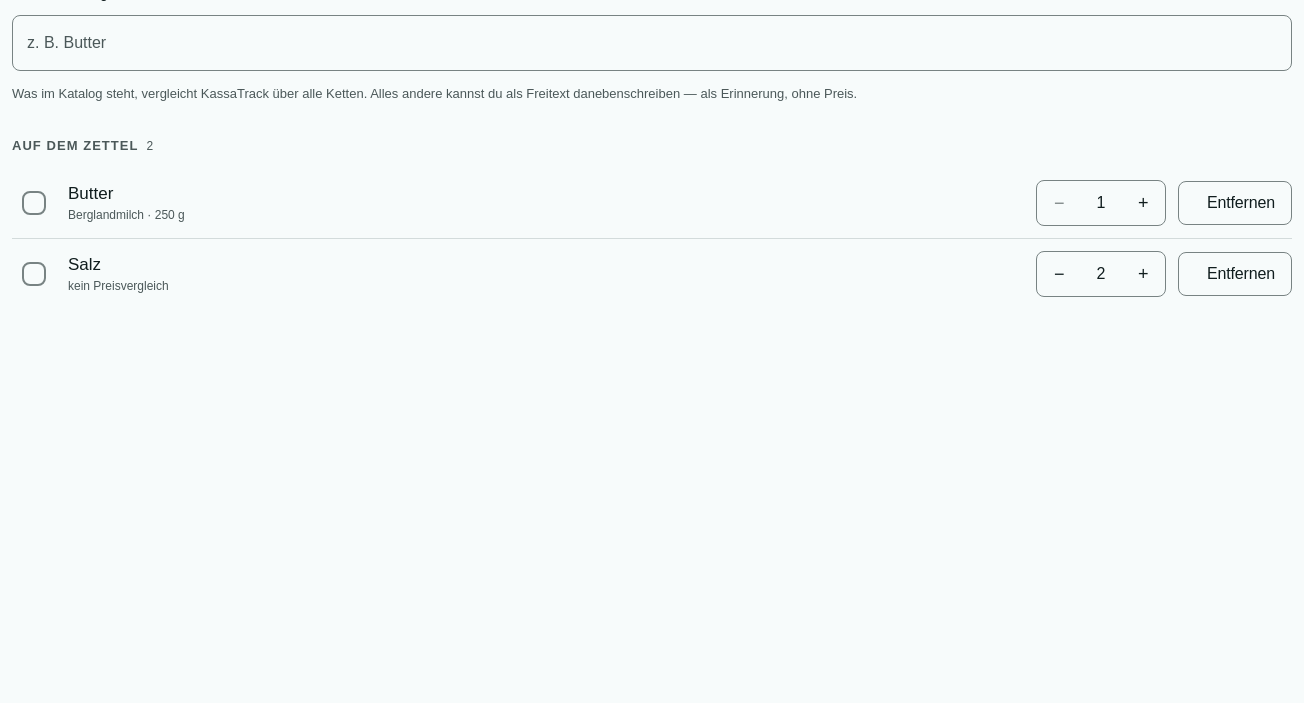
Test case: ZettelDetail — abhaken › öffnet höchstens ein Formular zugleich
Click the button named "Abhaken, Butter". click: (34, 203)
box: [12,181,56,225]
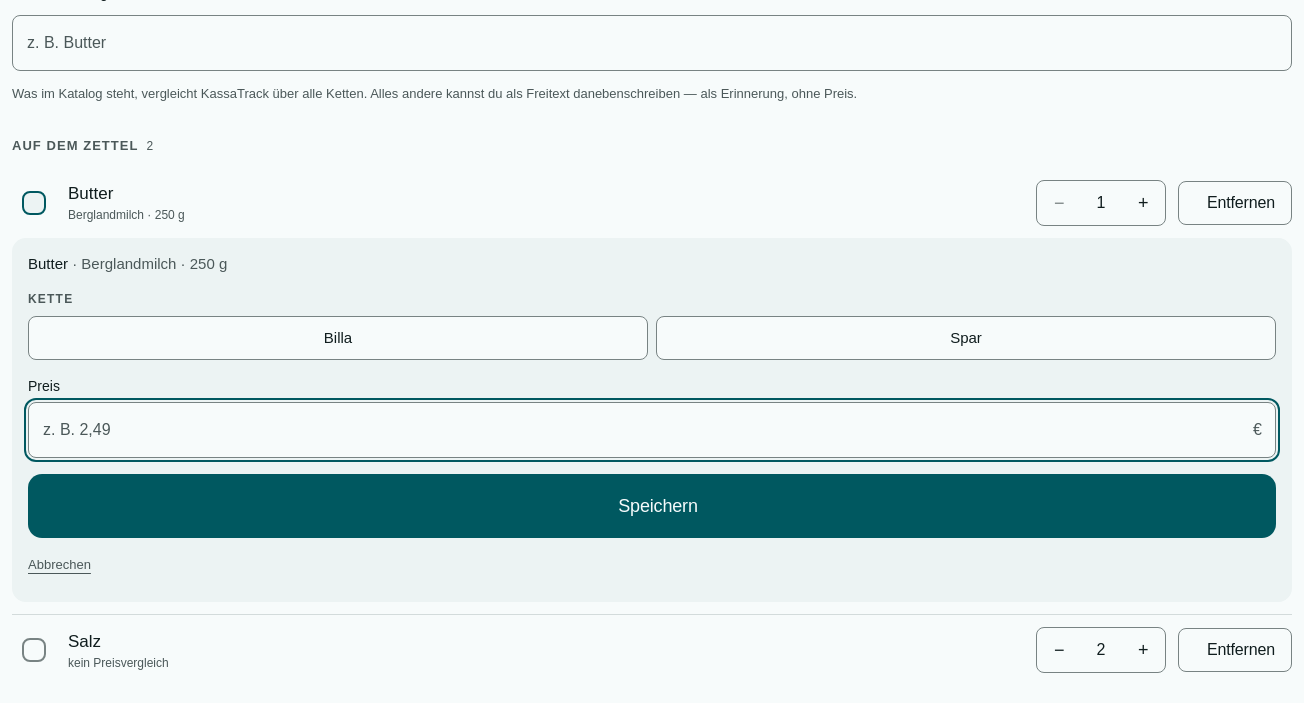
Click the button named "Abhaken, Salz". click: (34, 650)
box: [12,628,56,672]
(page scrolled)
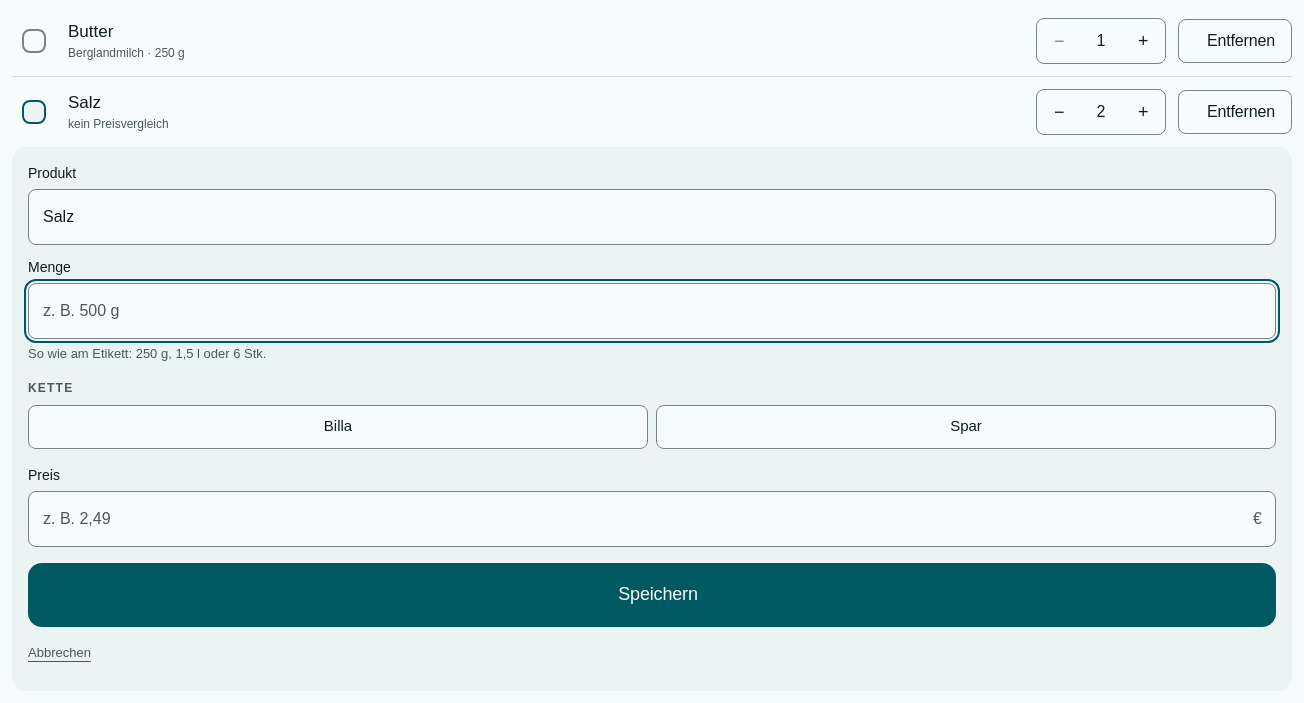
Check: the form named "Salz" is shown
